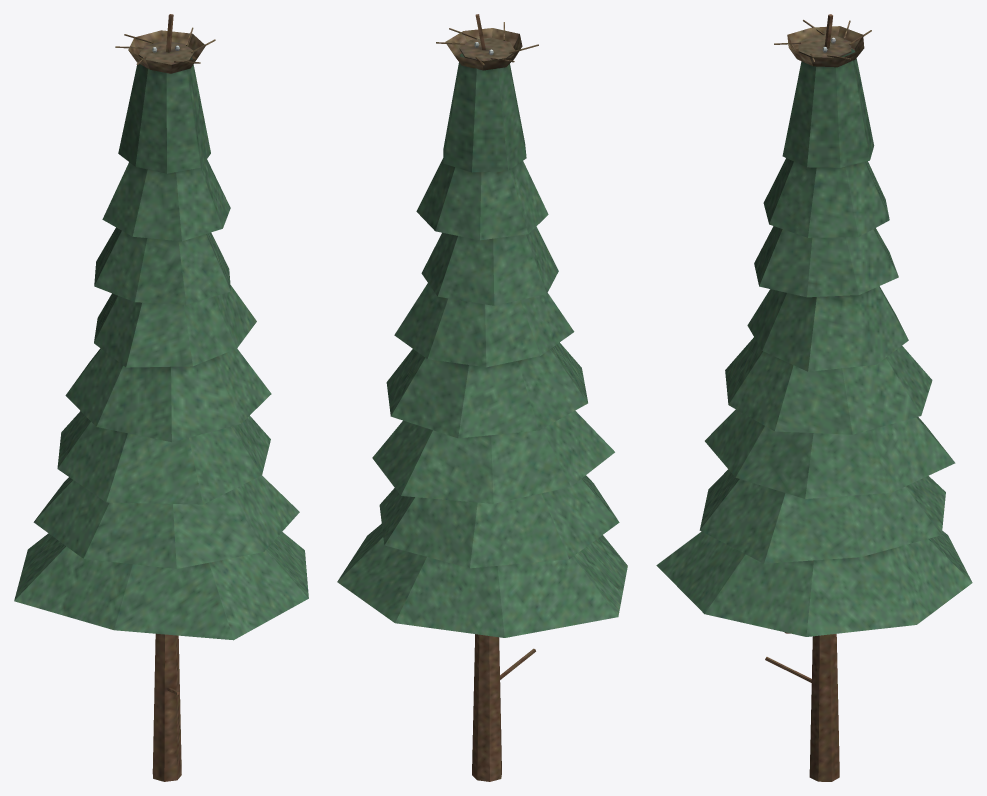
File: SM_Pine_Tall_A.fbx
3 views of the same model, side by side, from view 1: azimuth 30°, elevation 25°; view 2: azimuth 150°, elevation 25°; view 3: azimuth 270°, elevation 25° (orthographic).
Visible parts, largest first — view 1: SM_Pine_Tall_A; view 2: SM_Pine_Tall_A; view 3: SM_Pine_Tall_A.
Boxes of the visible parts, left/top/right/bottom form: SM_Pine_Tall_A: left=14, top=14, right=308, bottom=781; SM_Pine_Tall_A: left=337, top=14, right=627, bottom=781; SM_Pine_Tall_A: left=656, top=14, right=972, bottom=781.
Size of what is drawn, in the model's own units: 1107 by 2961 by 1110.
1 material, 1 textured.
